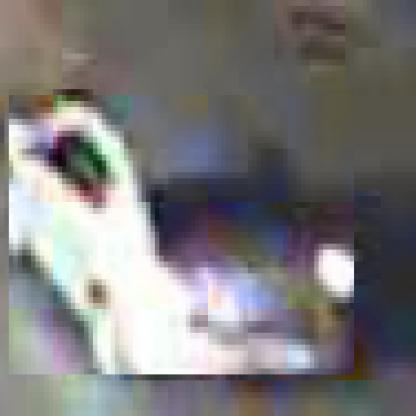car: (5, 90, 355, 381)
